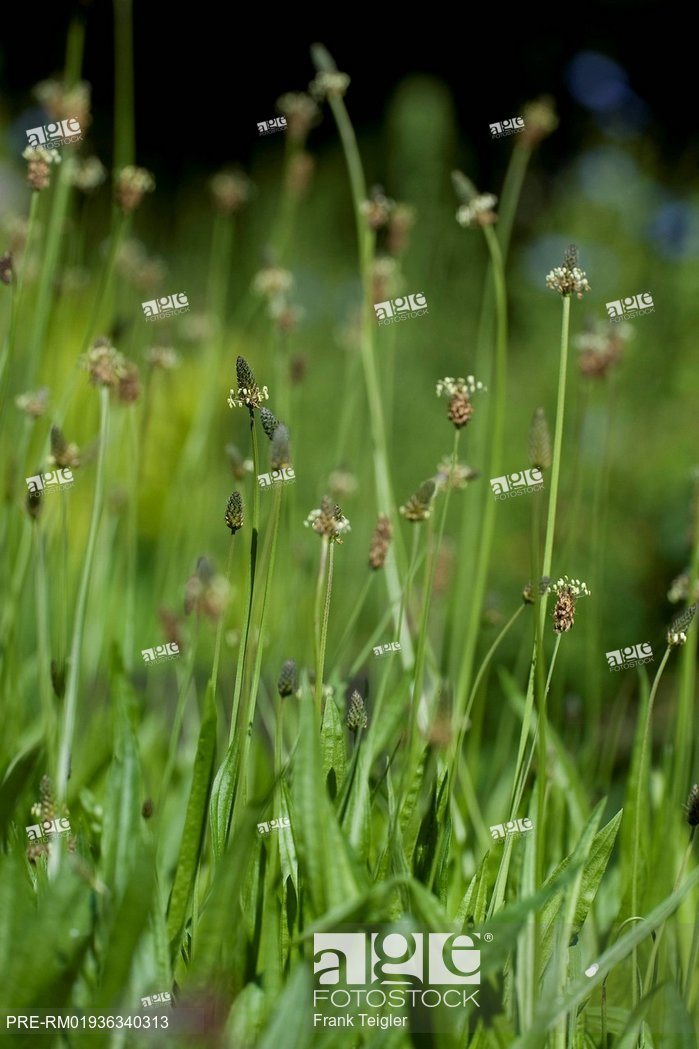buckhorn plantain: (7, 79, 656, 993)
